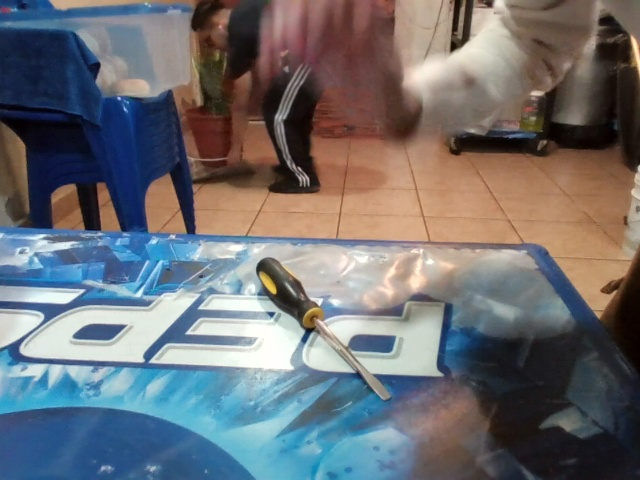destornillador: (255, 257, 393, 401)
